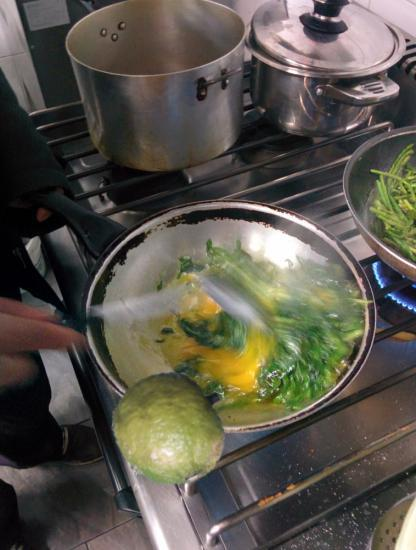Limes: (113, 369, 232, 488)
